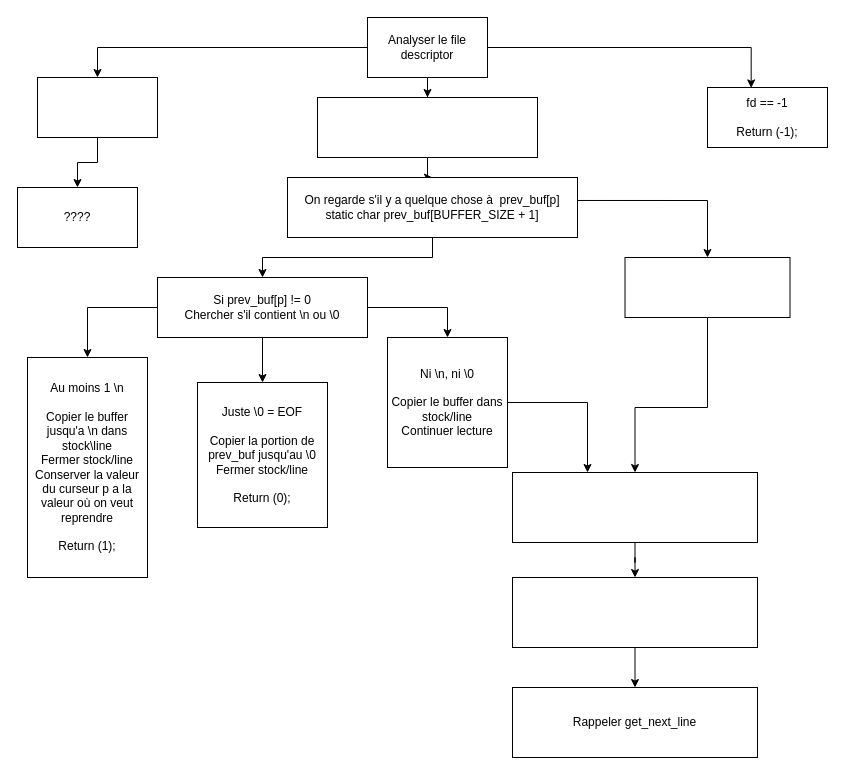
This 845x775 diagram has some shape labels left out. Here are the shapes that lost their labels. From the top down, the centre of each, then its label:
At [97,107]: "fd == 0 Lire entrée standard".
At [427,127]: "fd valide On rentre dans la fonction".
At [707,287]: "Si prev_buf[p] == 0 Continuer lecture".
At [635,507]: "On démarre la boucle de lecture".
At [635,612]: "Copier le buffer dans prev_buf Reset le curseur p".
